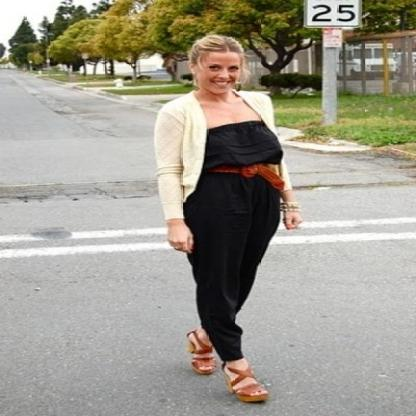dress: (182, 119, 287, 373)
jacket: (150, 91, 274, 222)
shoe: (191, 346, 261, 404)
